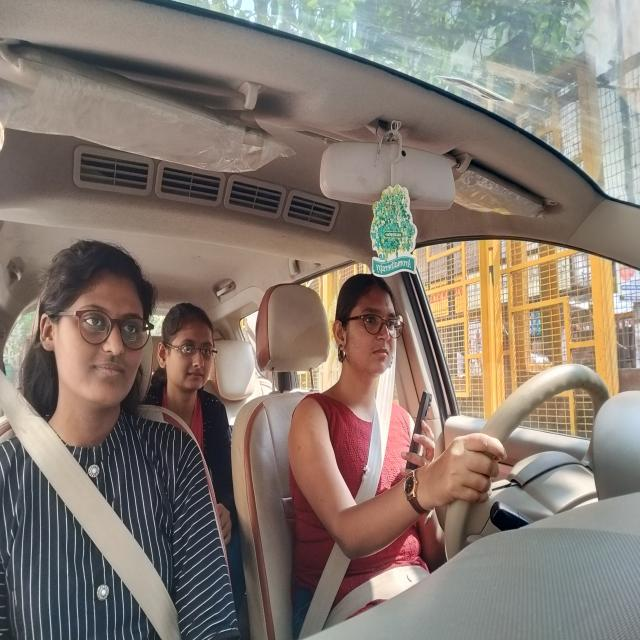mobile: (406, 390, 434, 479)
person: (42, 235, 151, 408), (335, 275, 413, 394), (164, 305, 220, 395)
